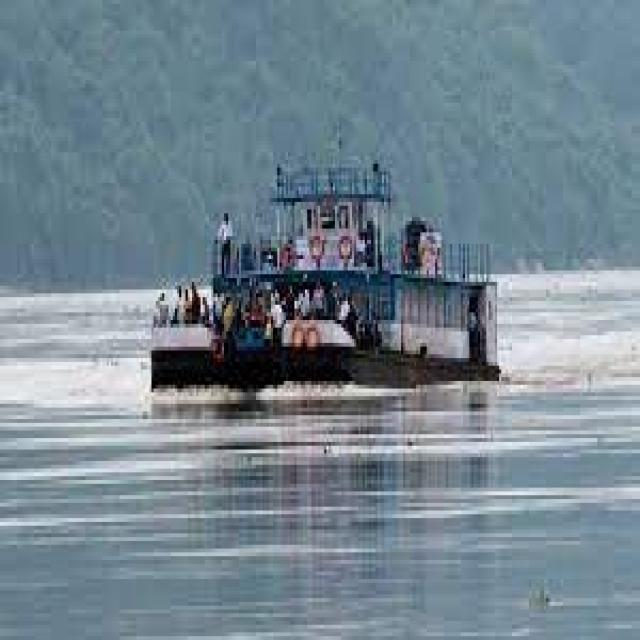fishing boat: (148, 141, 510, 430)
